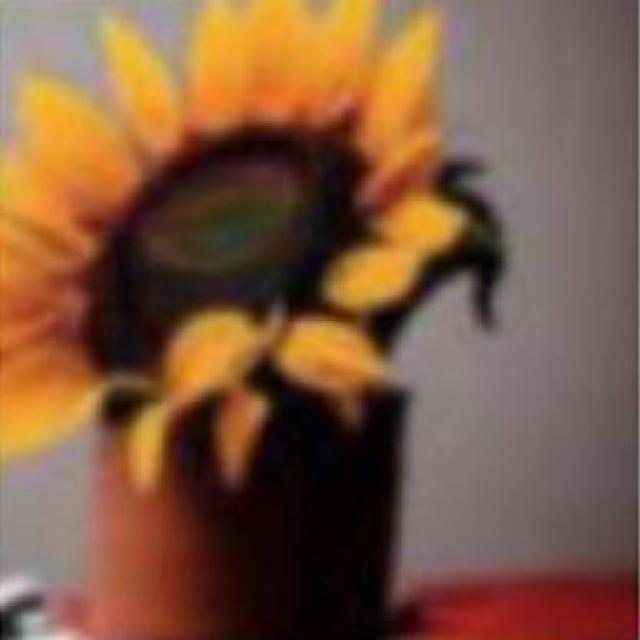sunflower: (0, 0, 488, 504)
